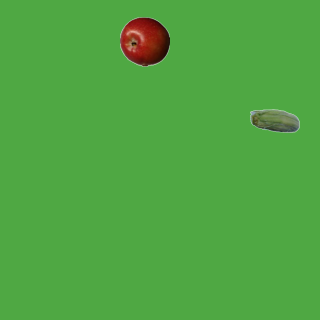Apple Braeburn: (119, 16, 169, 66)
Corn Husk: (249, 97, 299, 147)
